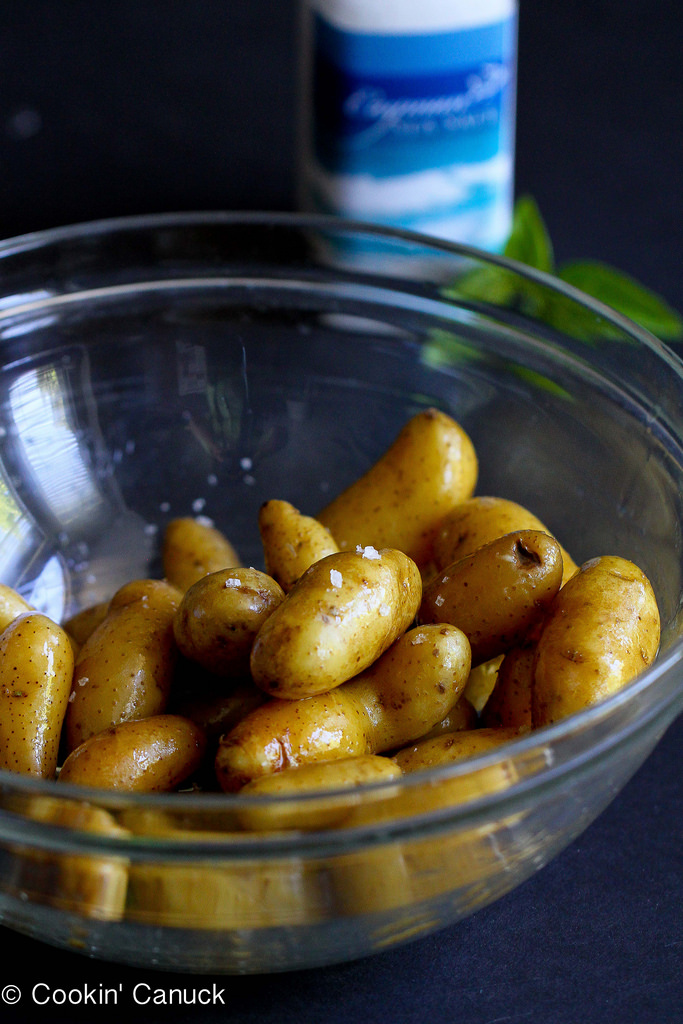boiled potatoes: (26, 513, 621, 844), (246, 552, 437, 692)
